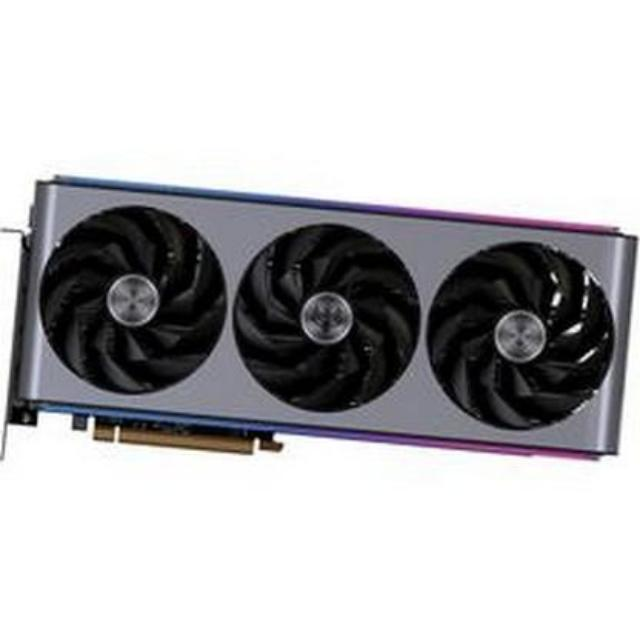GPU: (5, 166, 640, 483)
